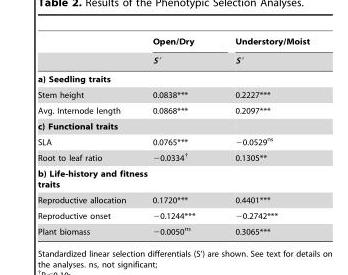table: (36, 36, 309, 235)
table column: (36, 36, 149, 235), (214, 36, 309, 235), (149, 36, 214, 235)
table column header: (36, 36, 309, 69)
table projected row header: (36, 165, 309, 192), (36, 69, 309, 86), (36, 118, 309, 133)
table row: (36, 165, 309, 192), (36, 50, 309, 69), (36, 69, 309, 86), (36, 148, 309, 165), (36, 86, 309, 102), (36, 102, 309, 118), (36, 118, 309, 133), (36, 133, 309, 148), (36, 192, 309, 207), (36, 207, 309, 222), (36, 36, 309, 50), (36, 222, 309, 235)
table spanning cell: (214, 36, 309, 69), (149, 36, 214, 69)
